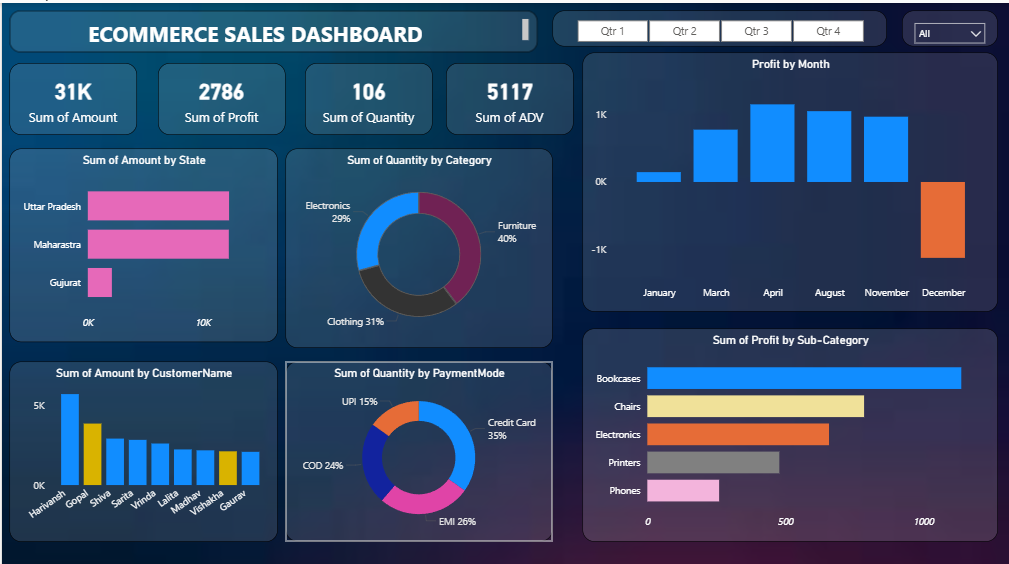

What the dashboard file says about the page in this screenshot:
{"tool":"powerbi","page":{"name":"Page 1","canvas":[1280,720],"ordinal":0},"visuals":[{"type":"textbox","box":[9.4,9.4,665.2,52.9],"z":0},{"type":"columnChart","title":"Profit by Month","fields":{"Category":["Orders.Order Date.Variation.Date Hierarchy.Month"],"Y":["Details.Profit"]},"box":[731.3,62.4,523.5,326.9],"z":1000},{"type":"barChart","fields":{"Category":["Details.Sub-Category"],"Y":["Details.Profit"]},"box":[731.3,410.1,523.5,268.3],"z":2000},{"type":"donutChart","fields":{"Category":["Details.Category"],"Y":["Details.Quantity"]},"box":[357.2,183.3,336.4,251.3],"z":3000},{"type":"donutChart","fields":{"Y":["Details.Quantity"],"Category":["Details.PaymentMode"]},"box":[357.2,451.7,336.4,226.8],"z":4000},{"type":"card","fields":{"Values":["Details.Amount"]},"box":[9.4,75.6,160.6,90.7],"z":5000},{"type":"card","fields":{"Values":["Details.Profit"]},"box":[196.5,75.6,160.6,90.7],"z":6000},{"type":"card","fields":{"Values":["Details.Quantity"]},"box":[381.7,75.6,160.6,90.7],"z":7000},{"type":"card","fields":{"Values":["Details.ADV"]},"box":[559.4,75.6,160.6,90.7],"z":8000},{"type":"barChart","fields":{"Category":["Orders.State"],"Y":["Details.Amount"]},"box":[9.4,183.3,338.3,243.8],"z":9000},{"type":"columnChart","fields":{"Category":["Orders.CustomerName"],"Y":["Details.Amount"]},"box":[9,452,338,227],"z":10000},{"type":"slicer","fields":{"Values":["Orders.Order Date.Variation.Date Hierarchy.Quarter"]},"box":[693.5,9.4,421.4,45.4],"z":11000},{"type":"slicer","fields":{"Values":["Orders.State"]},"box":[1133.2,9.4,120.4,45.3],"z":12000}]}

Visuals, with their boxes in screenshot pixels (x1, y1, x2, y2), scaled from the page's 1280x720 canvas onto the 1009x564 screenshot:
textbox: (7,7,532,49)
"Profit by Month" columnChart: (576,49,989,305)
barChart - Details.Sub-Category x Details.Profit: (576,321,989,531)
donutChart - Details.Category x Details.Quantity: (282,144,547,340)
donutChart - Details.Quantity x Details.PaymentMode: (282,354,547,531)
card - Details.Amount: (7,59,134,130)
card - Details.Profit: (155,59,281,130)
card - Details.Quantity: (301,59,427,130)
card - Details.ADV: (441,59,568,130)
barChart - Orders.State x Details.Amount: (7,144,274,335)
columnChart - Orders.CustomerName x Details.Amount: (7,354,274,532)
slicer - Orders.Order Date.Variation.Date Hierarchy.Quarter: (547,7,879,43)
slicer - Orders.State: (893,7,988,43)
